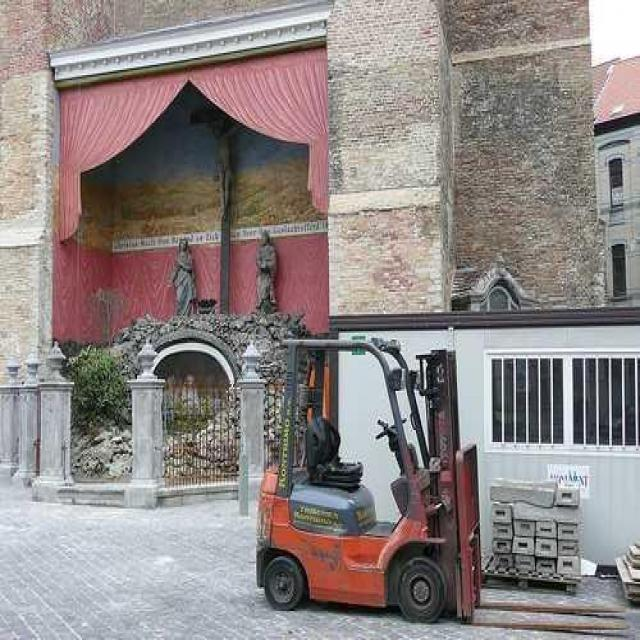cardboard box: (557, 556, 581, 577), (491, 504, 514, 525), (535, 538, 558, 558), (513, 536, 535, 556), (536, 518, 558, 538), (536, 557, 557, 577), (514, 554, 535, 574), (514, 520, 536, 538), (557, 539, 579, 556), (492, 524, 514, 540), (493, 539, 514, 555)
forklift: (255, 336, 483, 626)
